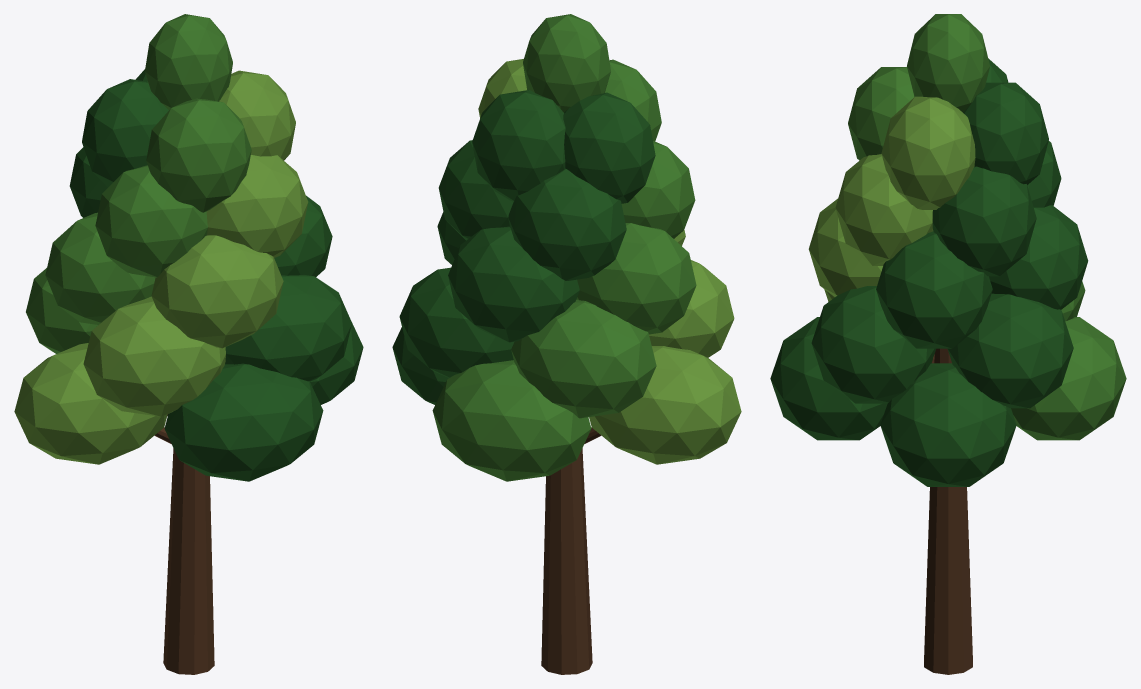
Rendered from edited.glb.
3 renders of one model, left to right at view 1: azimuth 30°, elevation 25°; view 2: azimuth 150°, elevation 25°; view 3: azimuth 270°, elevation 25°, orthographic.
Visible parts, largest first — view 1: CANOPY_TallTier.001, CANOPY_TallTier.002, CANOPY_TallTier.003, CANOPY_TallTier, CANOPY_TallTier.004, TRUNK, CANOPY_Tip; view 2: CANOPY_TallTier.001, CANOPY_TallTier.002, CANOPY_TallTier, CANOPY_TallTier.003, CANOPY_TallTier.004, TRUNK, CANOPY_Tip; view 3: CANOPY_TallTier.001, CANOPY_TallTier.002, CANOPY_TallTier.003, CANOPY_TallTier, CANOPY_TallTier.004, TRUNK, CANOPY_Tip.
Part boxes in pixels (x1=…): CANOPY_TallTier.001: x1=14, y1=323, x2=363, y2=481; CANOPY_TallTier.002: x1=26, y1=268, x2=352, y2=416; CANOPY_TallTier.003: x1=45, y1=195, x2=332, y2=348; CANOPY_TallTier: x1=82, y1=69, x2=295, y2=212; CANOPY_TallTier.004: x1=69, y1=147, x2=308, y2=277; TRUNK: x1=163, y1=448, x2=214, y2=674; CANOPY_Tip: x1=145, y1=14, x2=232, y2=109; CANOPY_TallTier.001: x1=392, y1=327, x2=741, y2=481; CANOPY_TallTier.002: x1=399, y1=260, x2=734, y2=418; CANOPY_TallTier: x1=472, y1=59, x2=661, y2=203; CANOPY_TallTier.003: x1=437, y1=212, x2=696, y2=342; CANOPY_TallTier.004: x1=438, y1=140, x2=695, y2=280; TRUNK: x1=541, y1=448, x2=592, y2=674; CANOPY_Tip: x1=523, y1=14, x2=610, y2=112; CANOPY_TallTier.001: x1=770, y1=317, x2=1126, y2=486; CANOPY_TallTier.002: x1=811, y1=281, x2=1085, y2=408; CANOPY_TallTier.003: x1=808, y1=198, x2=1088, y2=348; CANOPY_TallTier: x1=848, y1=58, x2=1048, y2=209; CANOPY_TallTier.004: x1=835, y1=141, x2=1061, y2=276; TRUNK: x1=924, y1=348, x2=972, y2=674; CANOPY_Tip: x1=907, y1=14, x2=989, y2=112.
Size of the model in its own units: 5 by 9.45 by 4.7.
